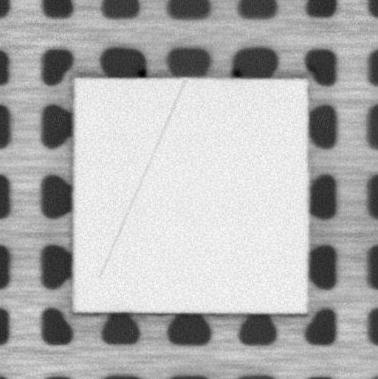DIE_CRACK: (98, 81, 185, 276)
